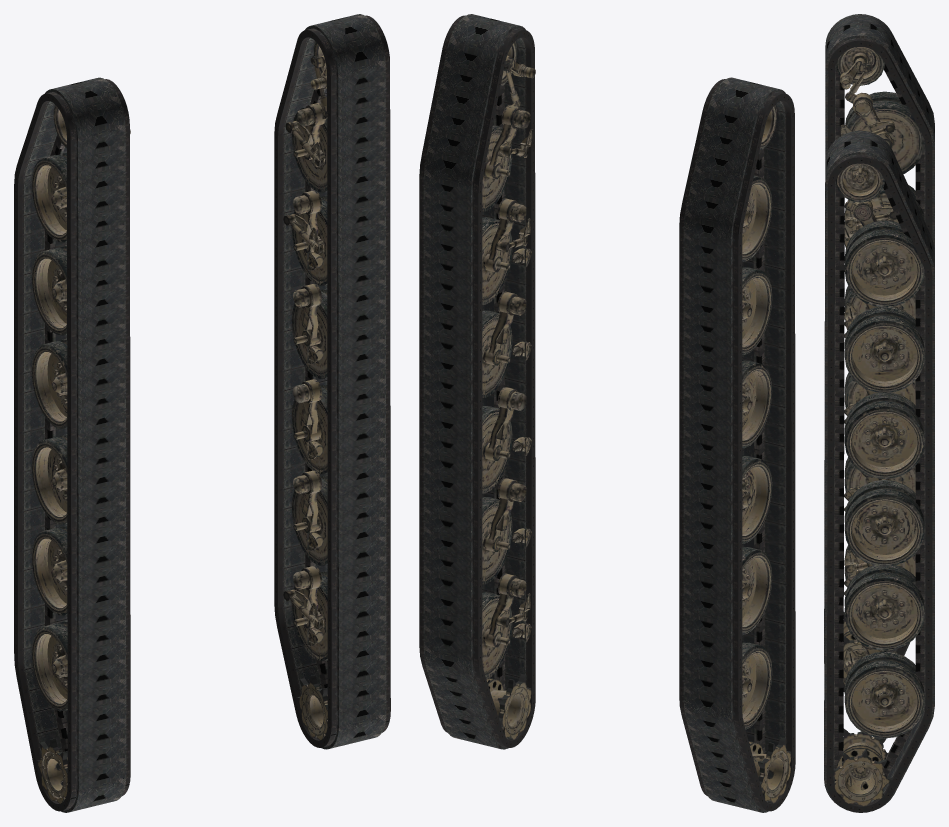
The model's file is Chassis.glb.
3 views of the same model, side by side, from view 1: azimuth 30°, elevation 25°; view 2: azimuth 150°, elevation 25°; view 3: azimuth 270°, elevation 25° (orthographic). The views are drawn at different scales.
Parts seen in each view (by area): view 1: set_0_group_0, set_1_group_0, set_3_group_0, set_2_group_0; view 2: set_0_group_0, set_1_group_0, set_3_group_0, set_2_group_0; view 3: set_3_group_0, set_1_group_0, set_2_group_0, set_0_group_0.
Boxes of the visible parts, x1=… form: set_0_group_0: x1=14, y1=77, x2=130, y2=812; set_1_group_0: x1=274, y1=14, x2=390, y2=749; set_3_group_0: x1=283, y1=41, x2=389, y2=747; set_2_group_0: x1=31, y1=105, x2=130, y2=810; set_0_group_0: x1=679, y1=77, x2=795, y2=812; set_1_group_0: x1=419, y1=14, x2=535, y2=749; set_3_group_0: x1=482, y1=41, x2=535, y2=739; set_2_group_0: x1=742, y1=104, x2=791, y2=803; set_3_group_0: x1=828, y1=163, x2=924, y2=806; set_1_group_0: x1=824, y1=130, x2=934, y2=812; set_2_group_0: x1=836, y1=47, x2=924, y2=684; set_0_group_0: x1=824, y1=14, x2=934, y2=692.
Size of the model in its own units: 3.04 by 6.55 by 0.9962.
4 materials, 4 textured.
